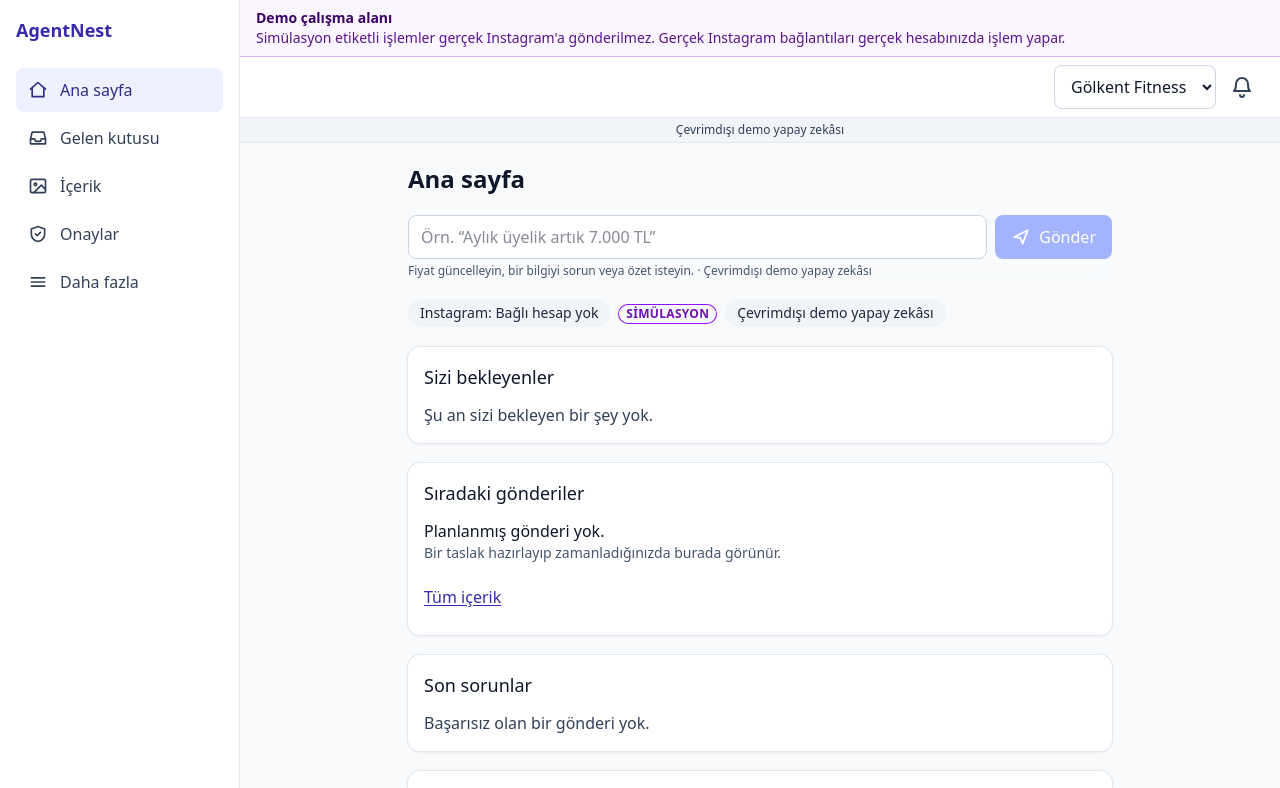
Test case: command bar › asks which amount was meant when the notation is ambiguous
Type "Aylık üyelik artık 7.000" into the field named "Komut" at [698, 237], box [408,215,987,259]
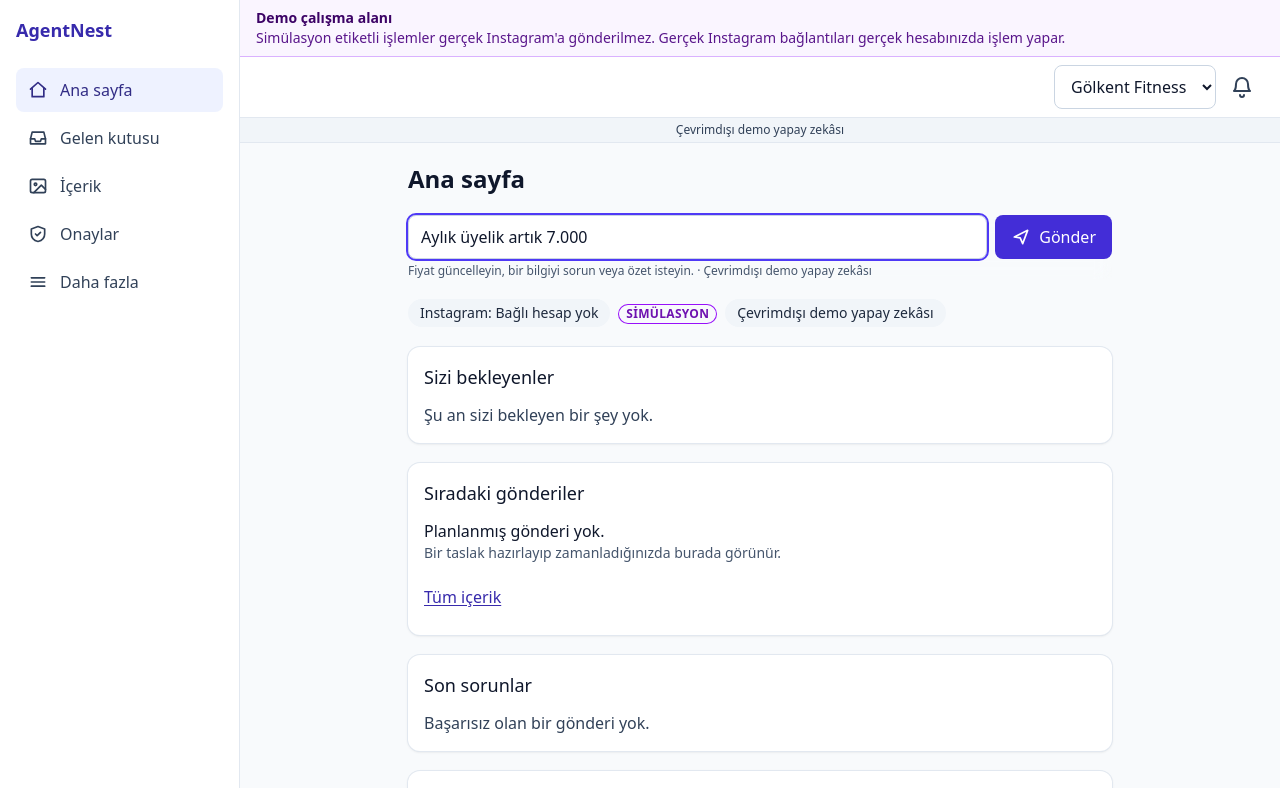
Click the button "Gönder" at [1054, 237], box [995,215,1112,259]
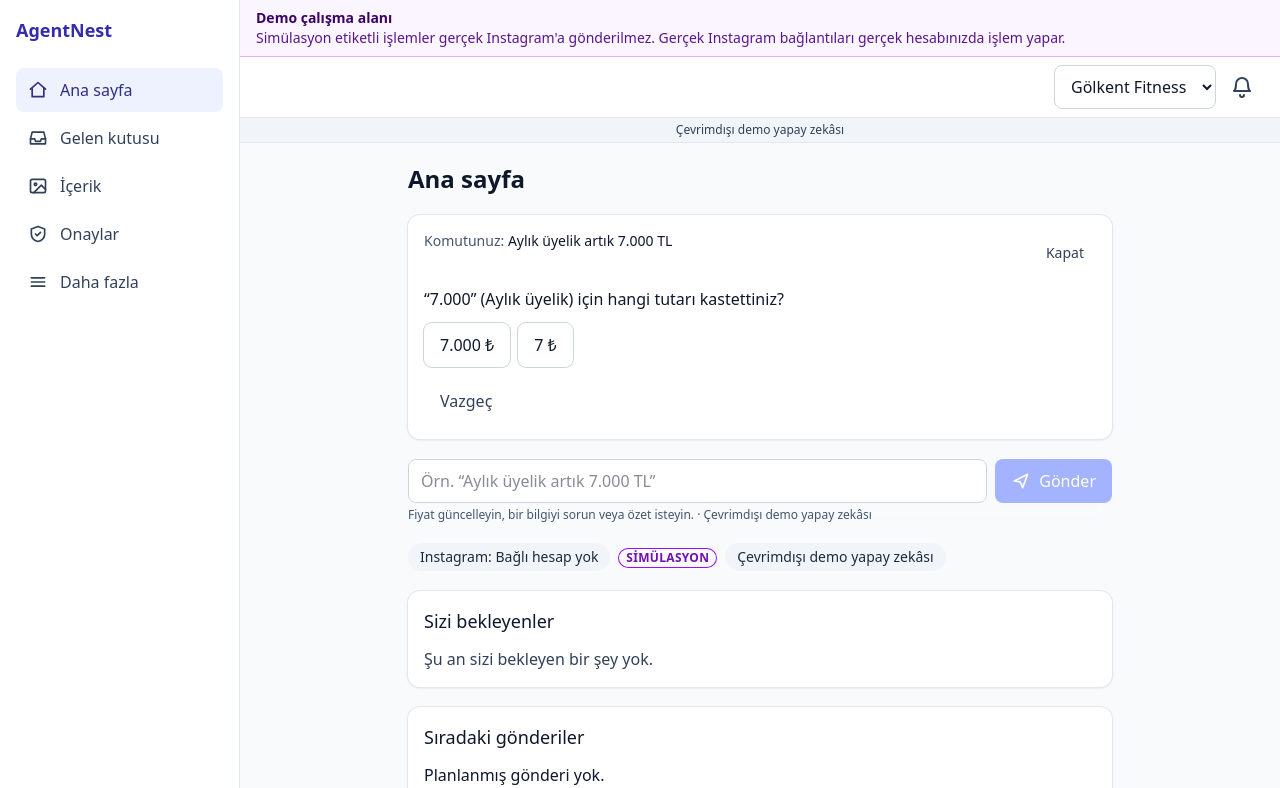
Expected: the element with test id "clarification" shows "“7.000” (Aylık üyelik) için hangi tutarı kastettiniz?", [424,288,784,310]
